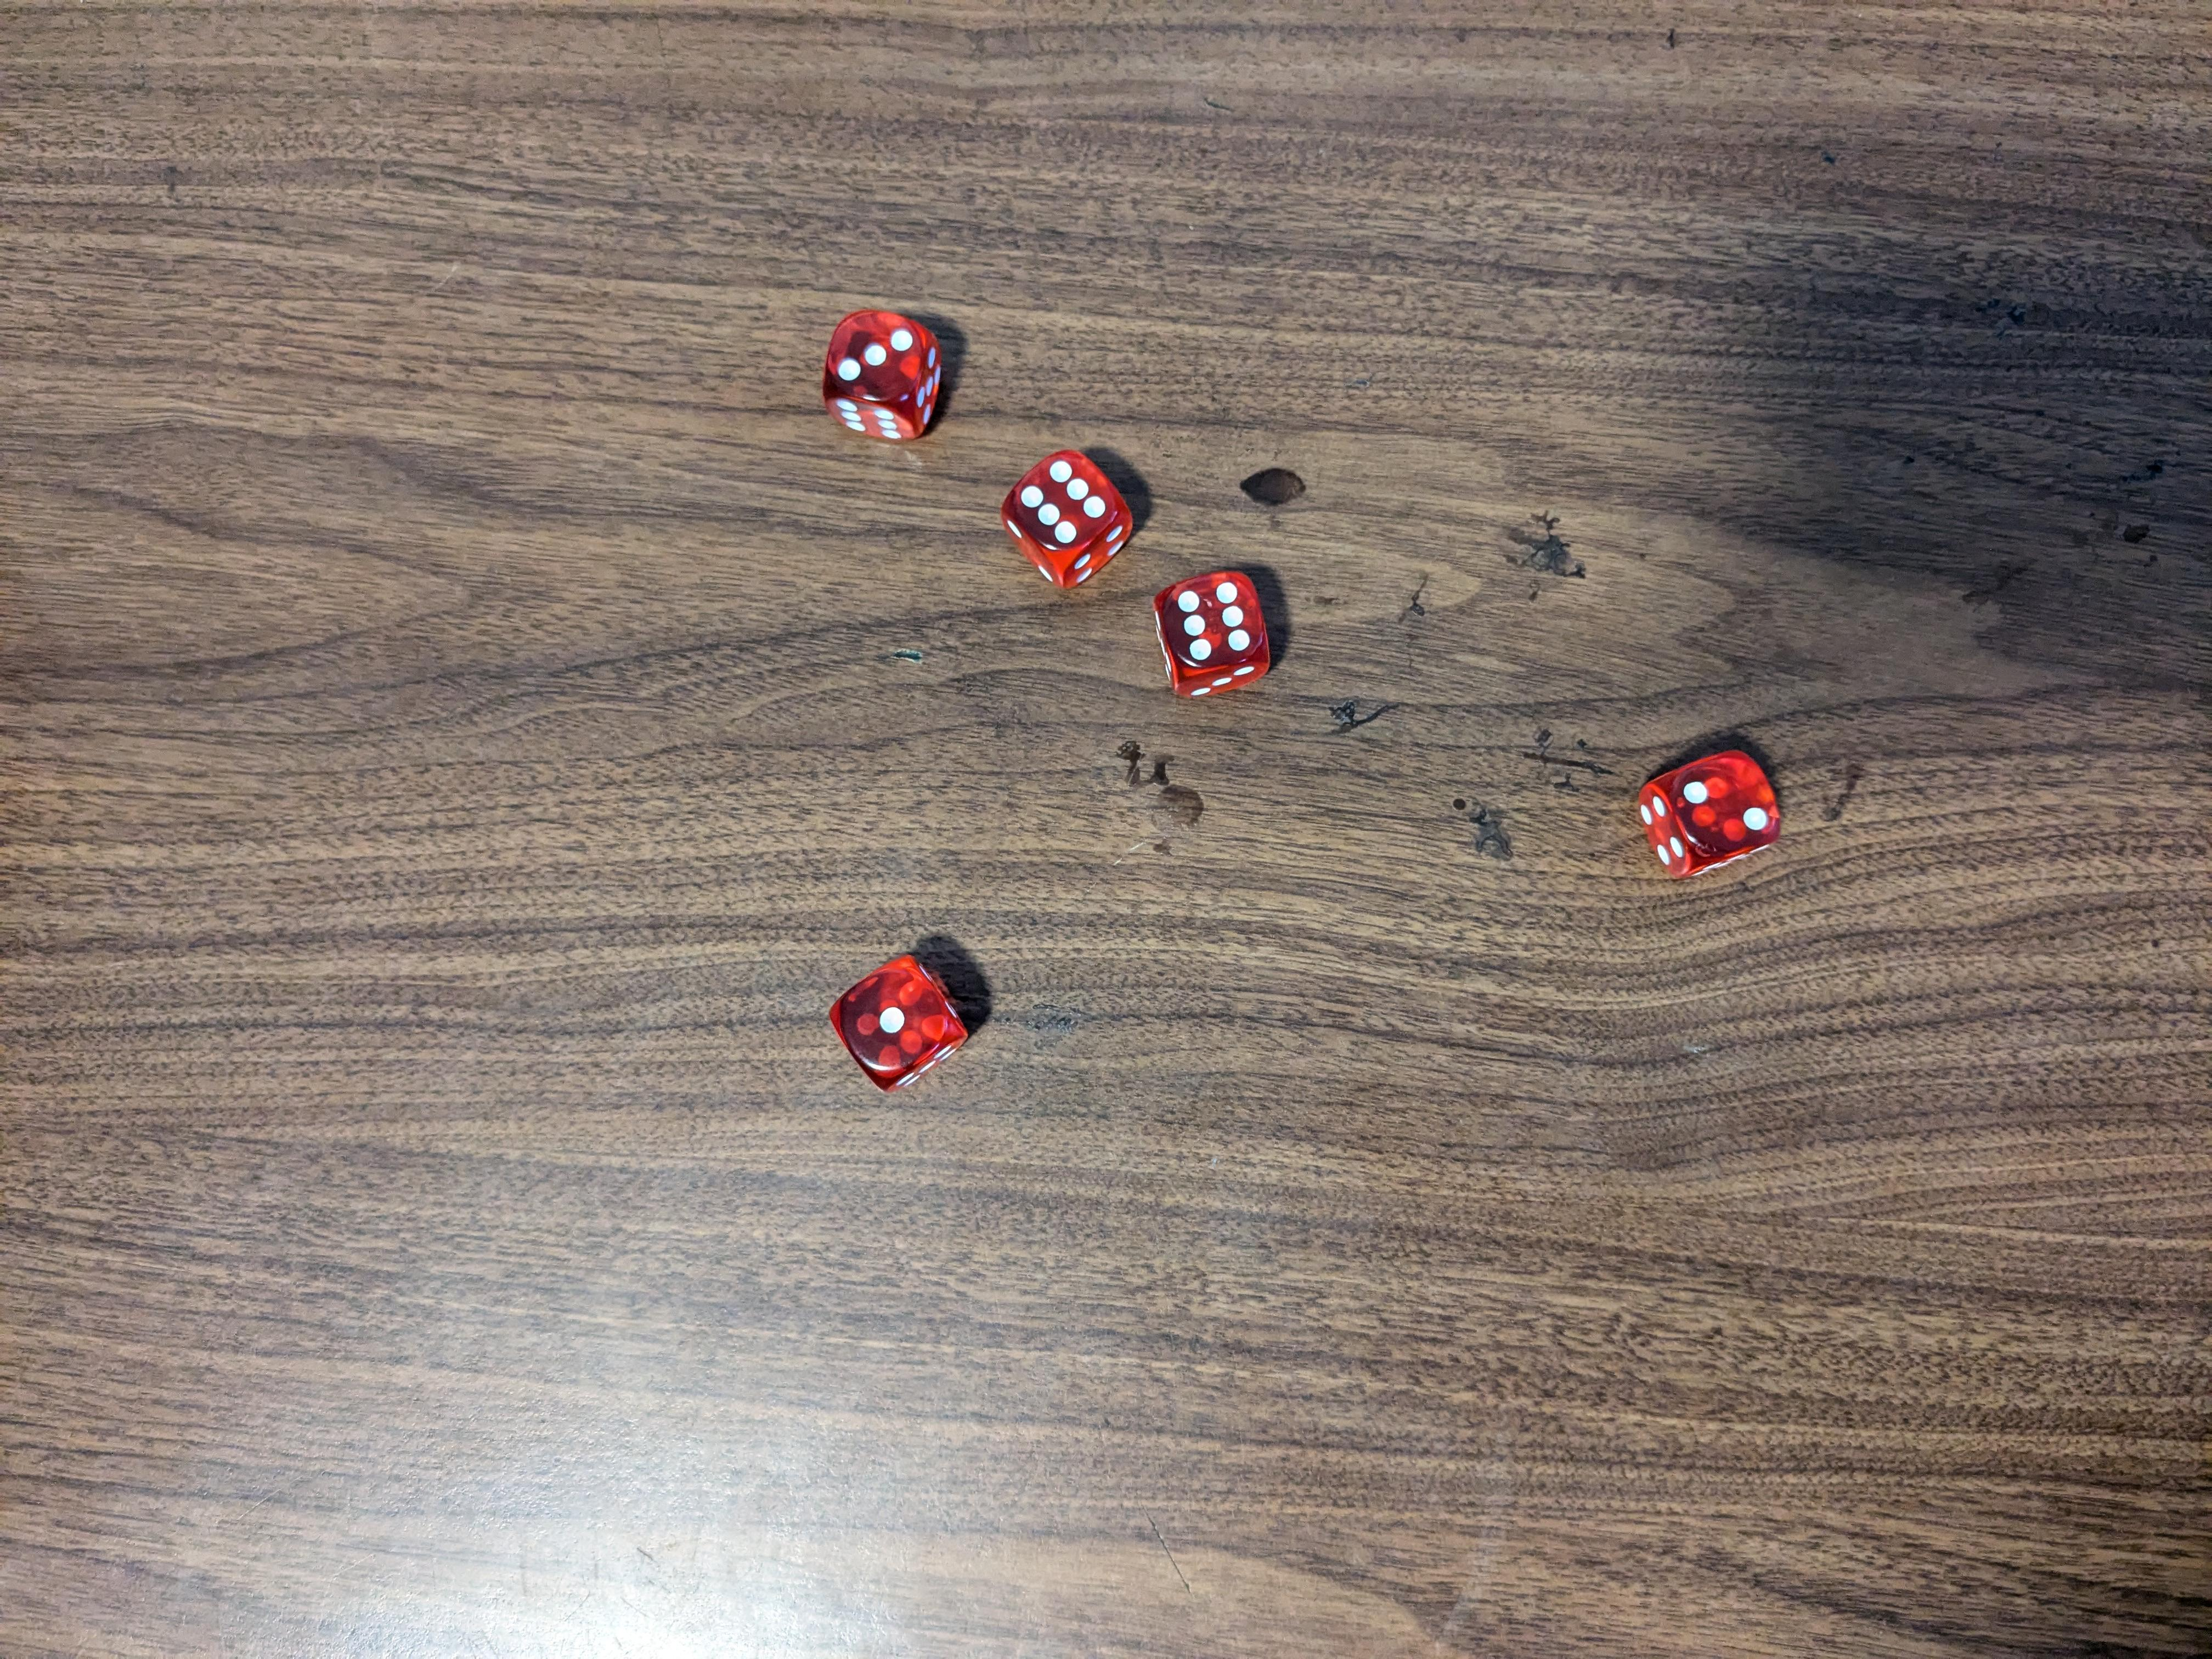one: (829, 953, 972, 1094)
six: (1007, 446, 1132, 586), (1153, 559, 1277, 699)
three: (824, 305, 942, 444)
two: (1630, 742, 1784, 880)
